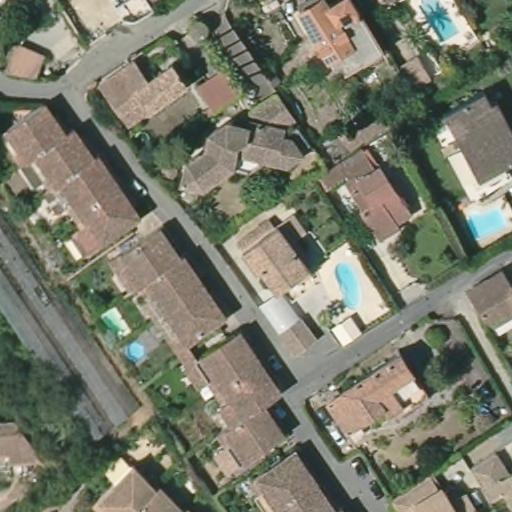pool: (415, 0, 462, 42), (464, 204, 511, 242), (332, 260, 365, 312), (94, 307, 132, 338), (124, 340, 146, 362)
